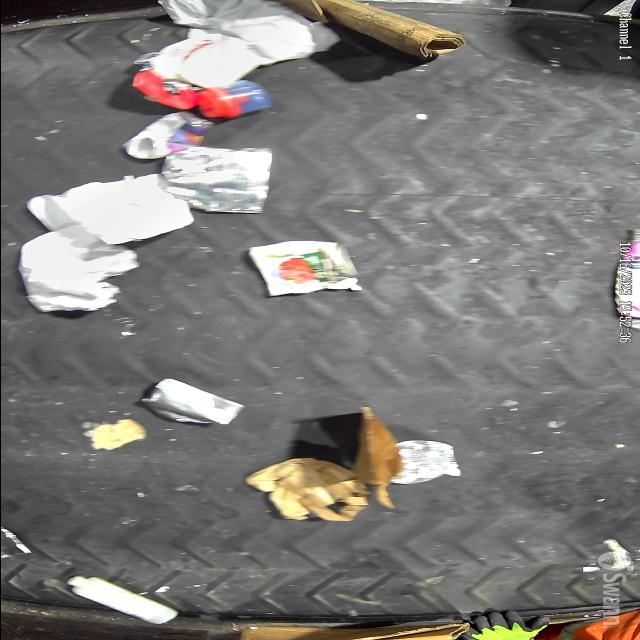can: (162, 142, 284, 218), (235, 235, 357, 297), (135, 378, 250, 426), (382, 440, 469, 487), (124, 114, 215, 158)
